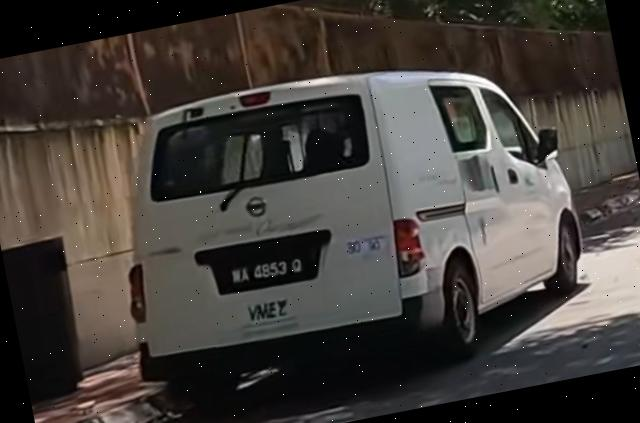License_Plate: (218, 249, 314, 293)
car: (92, 32, 603, 420)
